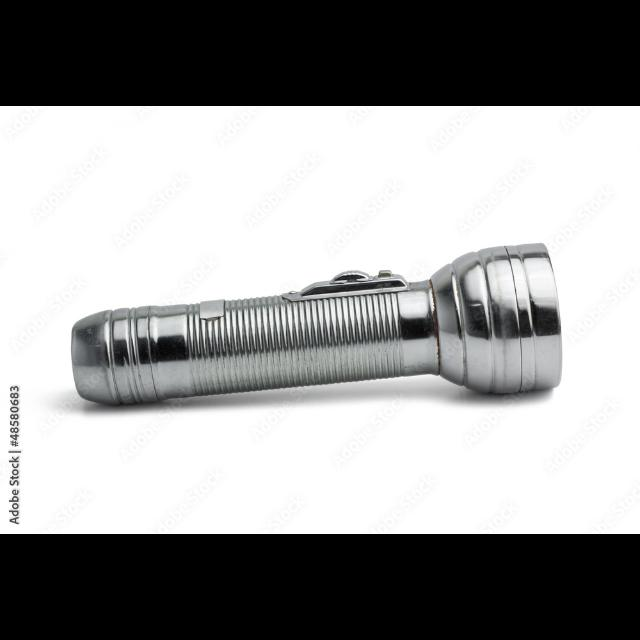Flashlight: (66, 238, 568, 414)
